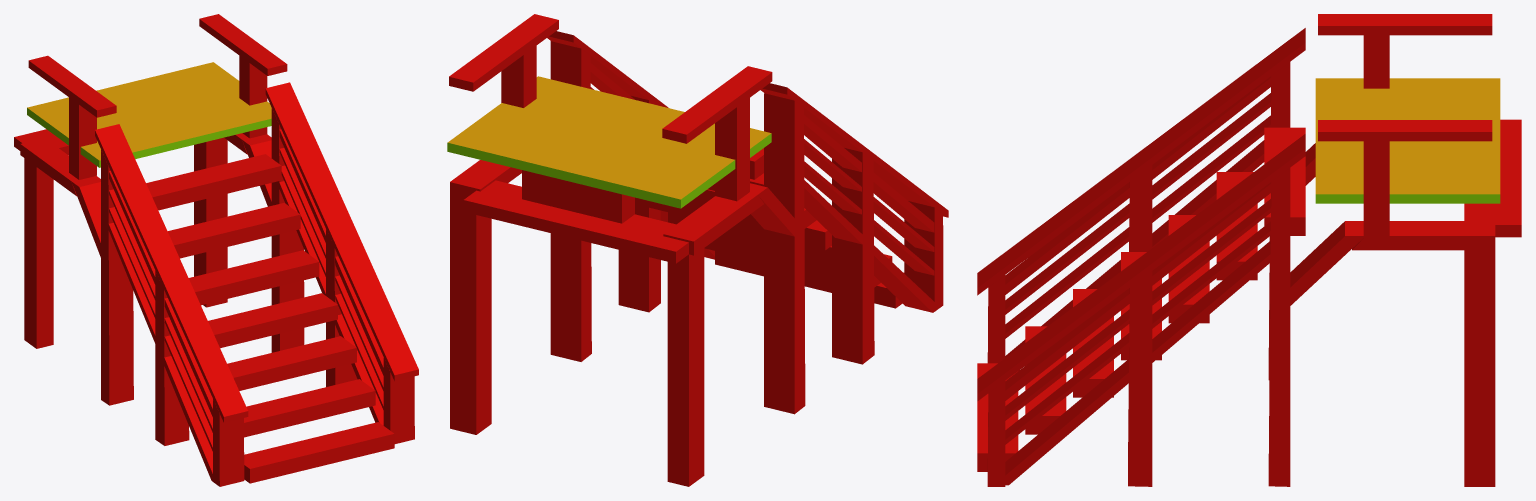
File: StairsStraight.fbx
3 renders of one model, left to right at view 1: azimuth 30°, elevation 25°; view 2: azimuth 150°, elevation 25°; view 3: azimuth 270°, elevation 25°, orthographic. The views are drawn at different scales.
Parts seen in each view (by area): view 1: Stairs_2Peice_STR8; view 2: Stairs_2Peice_STR8; view 3: Stairs_2Peice_STR8.
Part boxes in pixels (box(x1,y1,x2,y2)): Stairs_2Peice_STR8: box(14, 14, 418, 486); Stairs_2Peice_STR8: box(447, 14, 948, 486); Stairs_2Peice_STR8: box(977, 14, 1521, 486).
Size of the model in its own units: 202 by 274 by 379.
